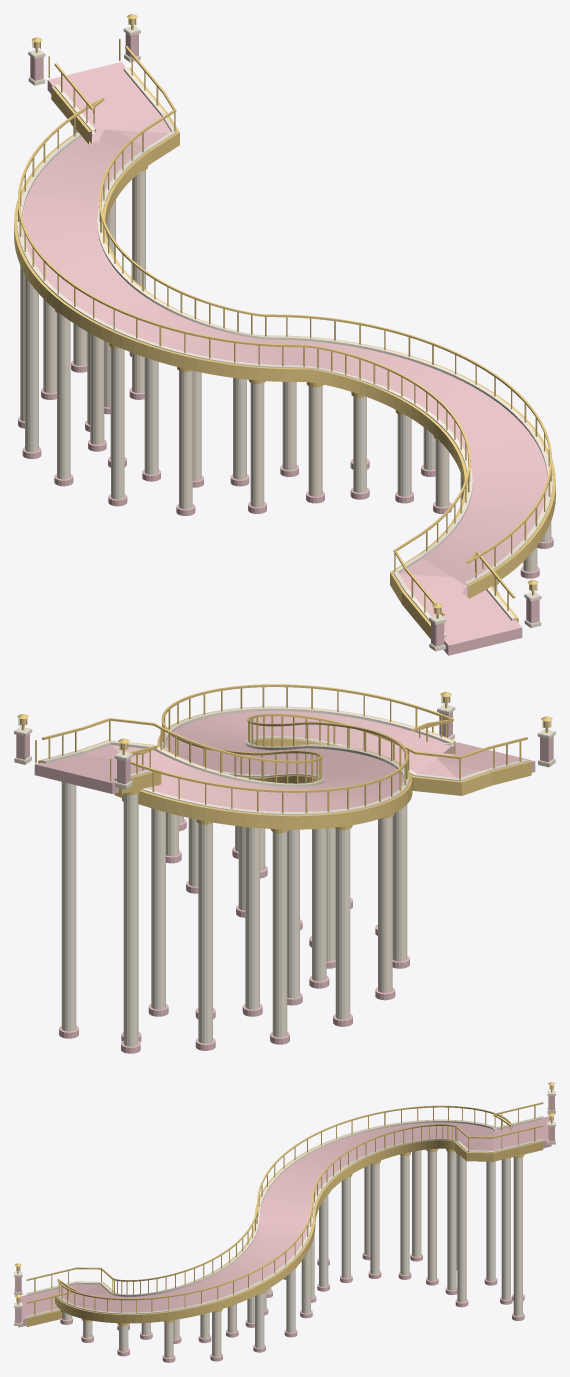
The model's file is HOB_SpiralRamp_12m.fbx.
The picture shows the model from 3 angles, top to bottom: view 1: azimuth 30°, elevation 25°; view 2: azimuth 150°, elevation 25°; view 3: azimuth 270°, elevation 25°; orthographic projection. The views are drawn at different scales.
Visible parts, largest first — view 1: HOB_SpiralRamp_12m; view 2: HOB_SpiralRamp_12m; view 3: HOB_SpiralRamp_12m.
Part boxes in pixels (x1,y1,x2,y2): HOB_SpiralRamp_12m: (14,14,555,655); HOB_SpiralRamp_12m: (14,684,555,1053); HOB_SpiralRamp_12m: (14,1082,555,1362).
Size of the model in its own units: 1564 by 1442 by 3252.
